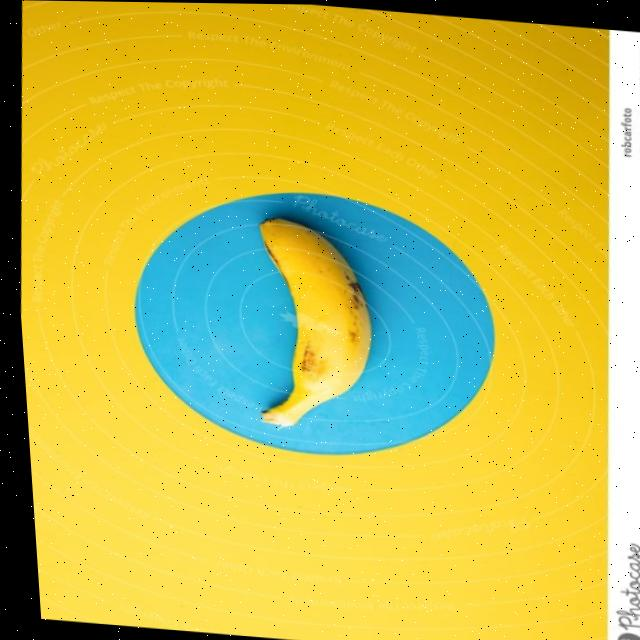Banana: (255, 217, 365, 425)
